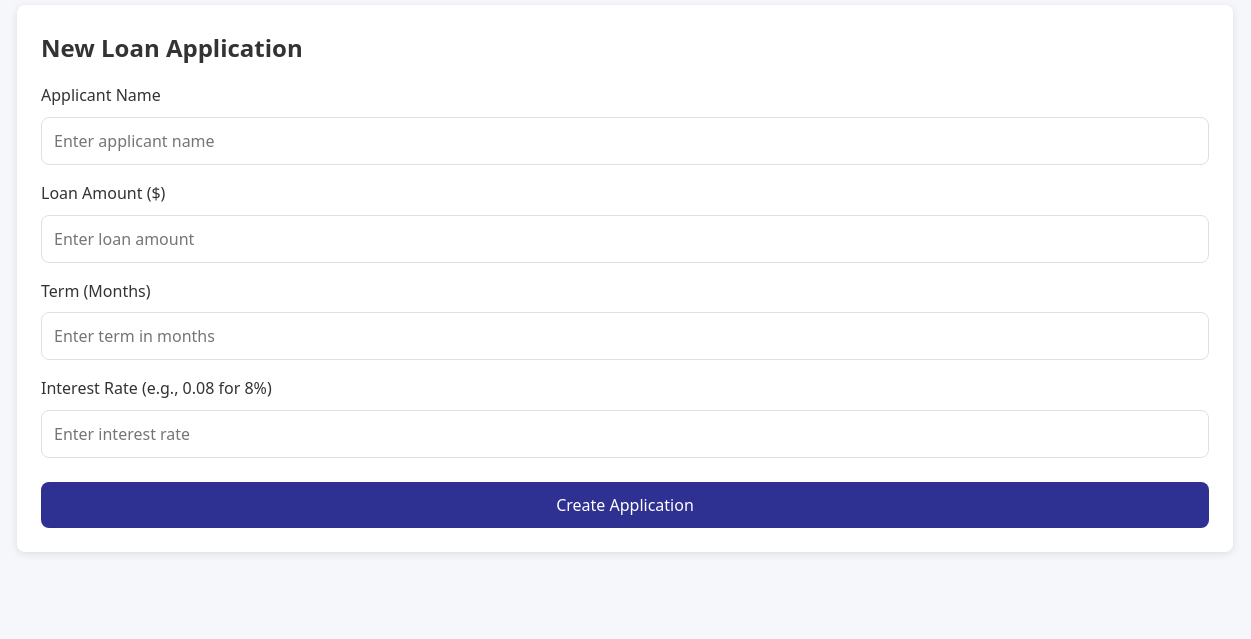
LoanForm › shows error for termMonths <= 0
The image size is (1251, 639).
Type "John Doe" into the field with id "applicantName" at (625,141), box [41,117,1209,165]
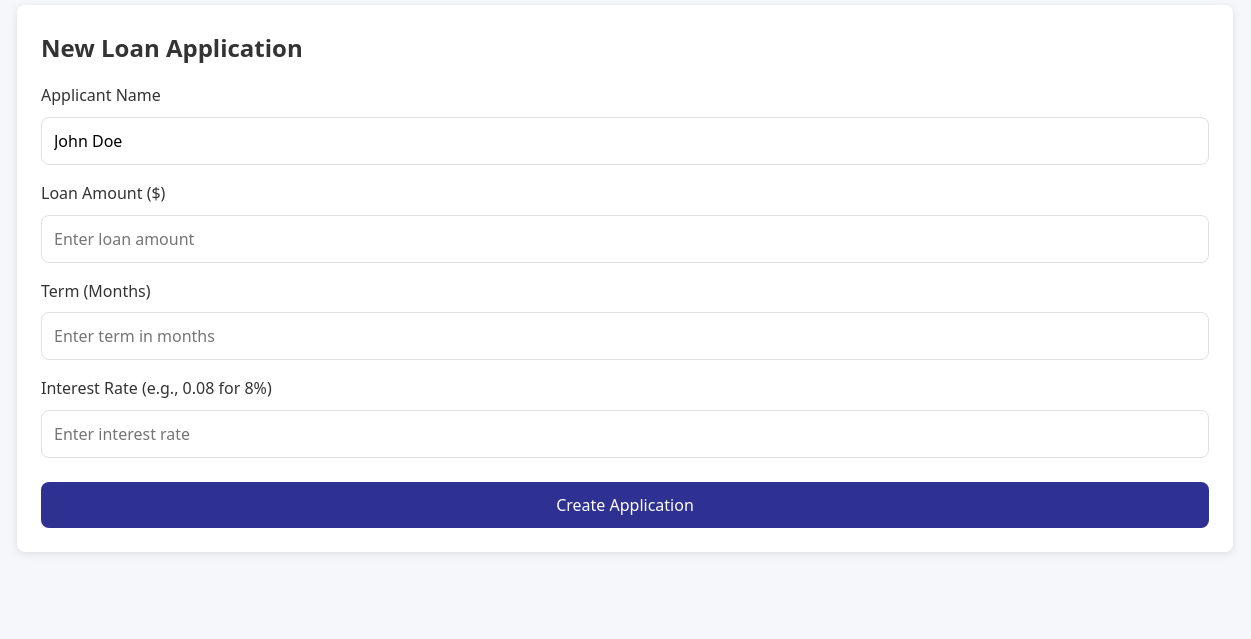
Type "50000" into the number field with id "amount" at (625,239), box [41,215,1209,263]
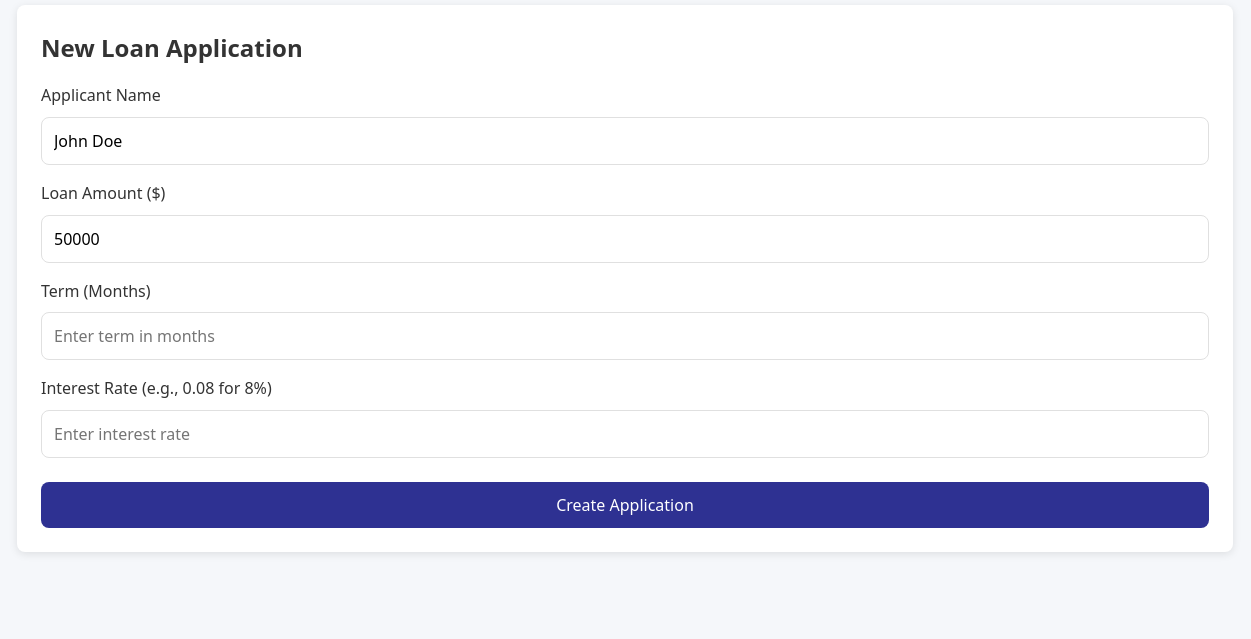
Type "0" into the number field with id "termMonths" at (625,336), box [41,312,1209,360]
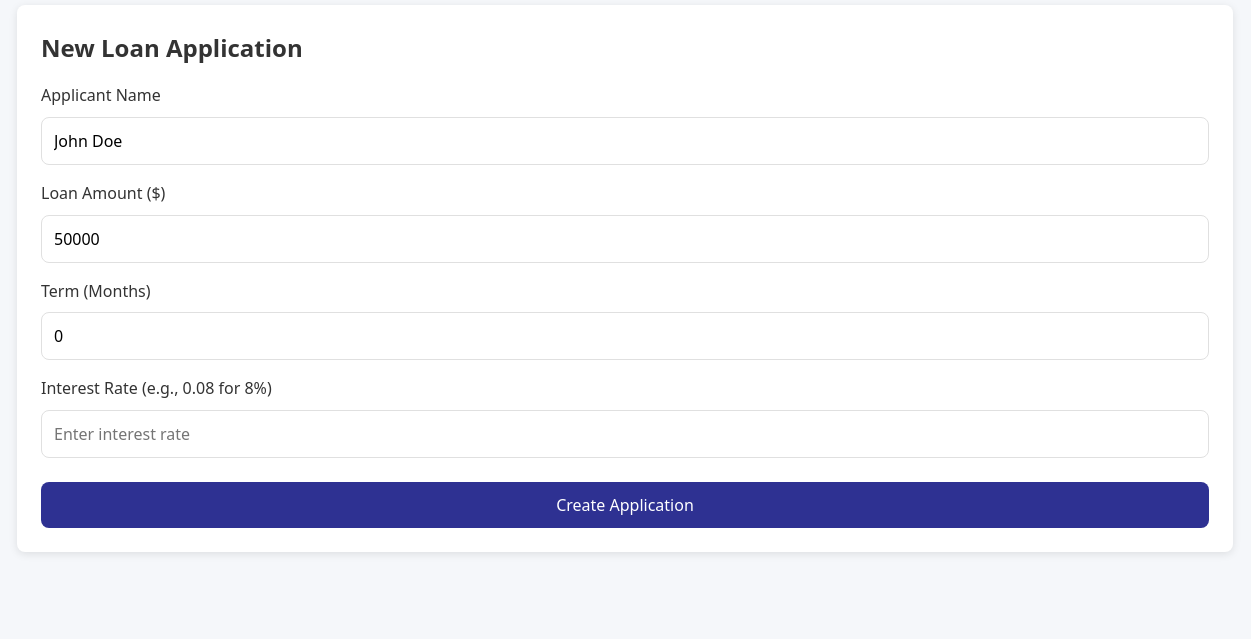
Type "0.08" into the number field with id "interestRate" at (625,434), box [41,410,1209,458]
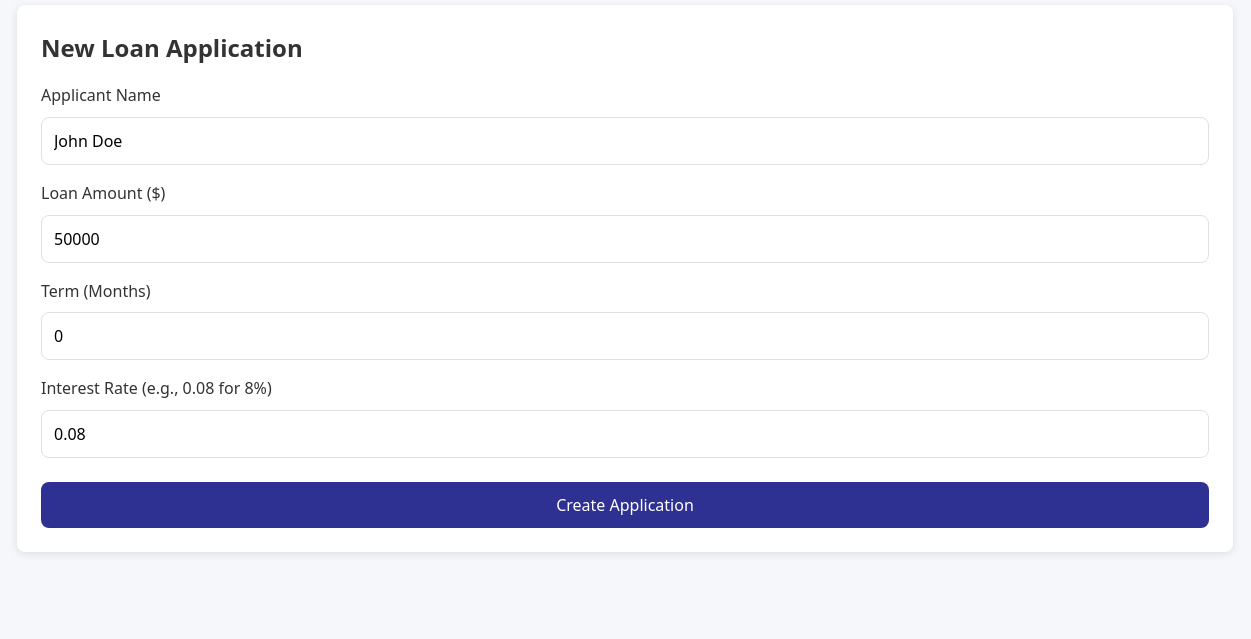
Submit the form
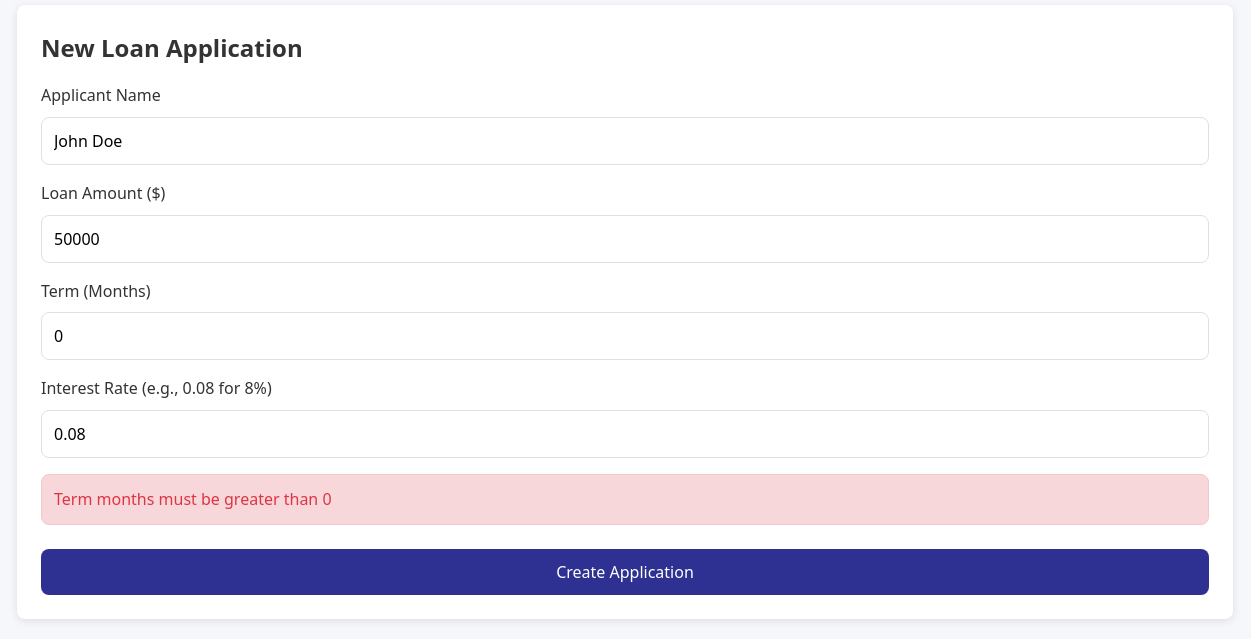
Check: the text "Term months must be greater than 0" is shown, box [41,474,1209,525]
Check: the text with class "error-message" reads "Term months must be greater than 0", box [54,488,332,510]
